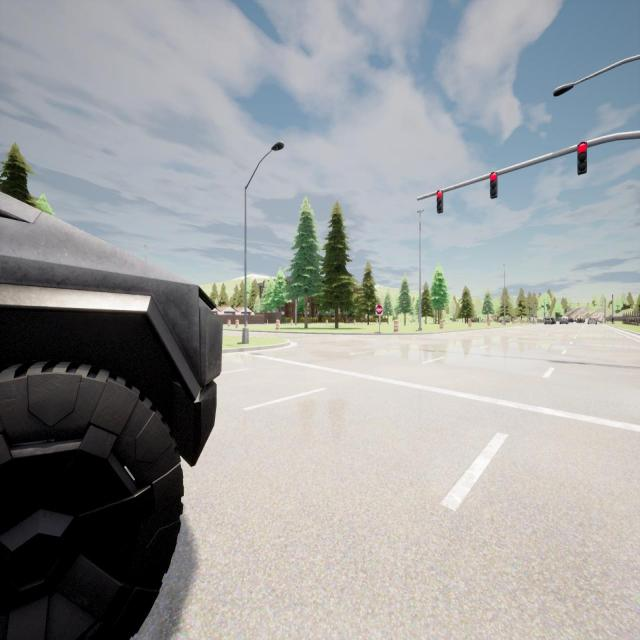Pedestrian: (611, 316, 614, 324)
Traffic_Signs: (376, 305, 383, 315)
Vehicle: (0, 193, 221, 638), (588, 318, 598, 325), (544, 317, 552, 325), (559, 317, 568, 324), (568, 317, 574, 323), (578, 319, 584, 324), (552, 318, 557, 324), (576, 318, 578, 323)
traffic_light: (577, 142, 588, 176), (490, 172, 497, 199), (437, 191, 442, 213)
